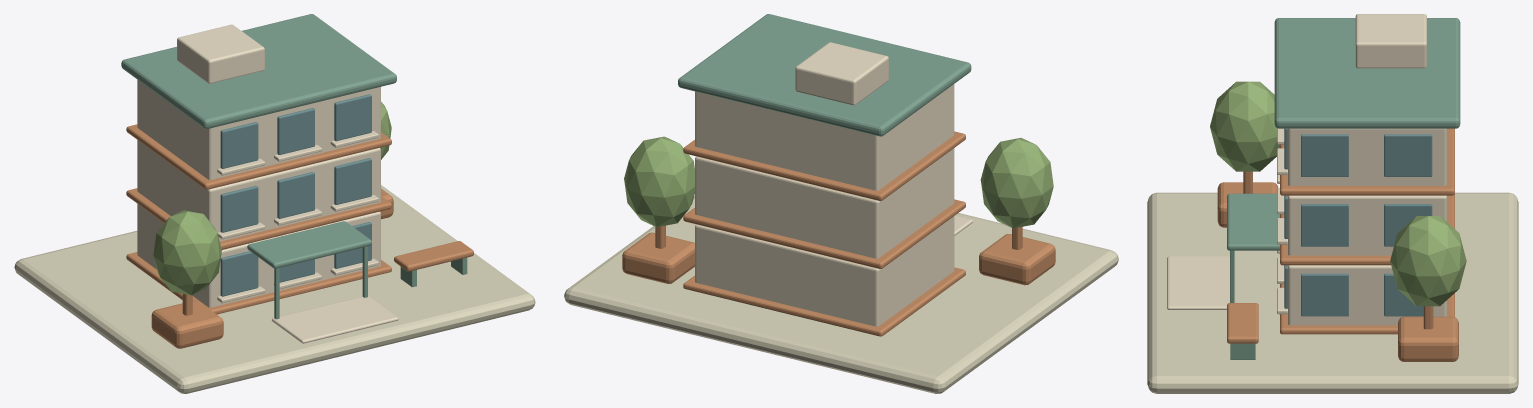
Rendered from pipeline-sample.glb.
3 renders of one model, left to right at view 1: azimuth 30°, elevation 25°; view 2: azimuth 150°, elevation 25°; view 3: azimuth 270°, elevation 25°, orthographic. The views are drawn at different scales.
Visible parts, largest first — view 1: ENV_Platform, ENV_Roof, ENV_SampleVolume_1, ENV_SampleVolume_2, ENV_TreeCrown, ENV_SampleVolume_0, ENV_RoofHut, ENV_Path, ENV_Canopy, ENV_Slab_2, ENV_Planter, ENV_Slab_1 (+11 smaller); view 2: ENV_Platform, ENV_Roof, ENV_SampleVolume_1, ENV_SampleVolume_0, ENV_SampleVolume_2, ENV_TreeCrown, ENV_TreeCrown.001, ENV_RoofHut, ENV_Slab_2, ENV_Slab_1, ENV_Slab_0, ENV_Planter (+1 smaller); view 3: ENV_Platform, ENV_Roof, ENV_TreeCrown.001, ENV_SampleVolume_2, ENV_TreeCrown, ENV_SampleVolume_1, ENV_SampleVolume_0, ENV_RoofHut, ENV_Path, ENV_Canopy, ENV_Planter.001, ENV_Slab_2 (+11 smaller).
Boxes of the visible parts, x1,y1,x2,y2 form: ENV_Platform: (14, 185, 535, 393); ENV_Roof: (121, 14, 396, 128); ENV_SampleVolume_1: (137, 140, 380, 241); ENV_SampleVolume_2: (137, 80, 380, 179); ENV_TreeCrown: (153, 210, 221, 295); ENV_SampleVolume_0: (137, 204, 380, 307); ENV_RoofHut: (177, 24, 264, 83); ENV_Path: (272, 296, 398, 343); ENV_Canopy: (247, 221, 371, 268); ENV_Slab_2: (126, 124, 391, 189); ENV_Planter: (151, 300, 223, 348); ENV_Slab_1: (126, 188, 391, 249); ENV_Platform: (564, 196, 1118, 393); ENV_Roof: (678, 14, 971, 136); ENV_SampleVolume_1: (695, 148, 954, 258); ENV_SampleVolume_0: (695, 216, 954, 326); ENV_SampleVolume_2: (695, 84, 954, 190); ENV_TreeCrown: (980, 137, 1053, 228); ENV_TreeCrown.001: (624, 136, 694, 227); ENV_RoofHut: (795, 42, 888, 105); ENV_Slab_2: (683, 131, 965, 201); ENV_Slab_1: (683, 199, 965, 268); ENV_Slab_0: (683, 267, 965, 336); ENV_Planter: (979, 234, 1055, 285); ENV_Platform: (1147, 192, 1518, 393); ENV_Roof: (1274, 18, 1460, 128); ENV_TreeCrown.001: (1390, 216, 1466, 306); ENV_SampleVolume_2: (1288, 128, 1446, 185); ENV_TreeCrown: (1210, 81, 1279, 171); ENV_SampleVolume_1: (1288, 195, 1446, 255); ENV_SampleVolume_0: (1288, 265, 1446, 325); ENV_RoofHut: (1355, 14, 1426, 68); ENV_Path: (1167, 256, 1235, 309); ENV_Canopy: (1227, 193, 1279, 250); ENV_Planter.001: (1398, 316, 1458, 361); ENV_Slab_2: (1280, 128, 1454, 195).
Bounding box in the file's own units: 8.5 × 5.39 × 7.
